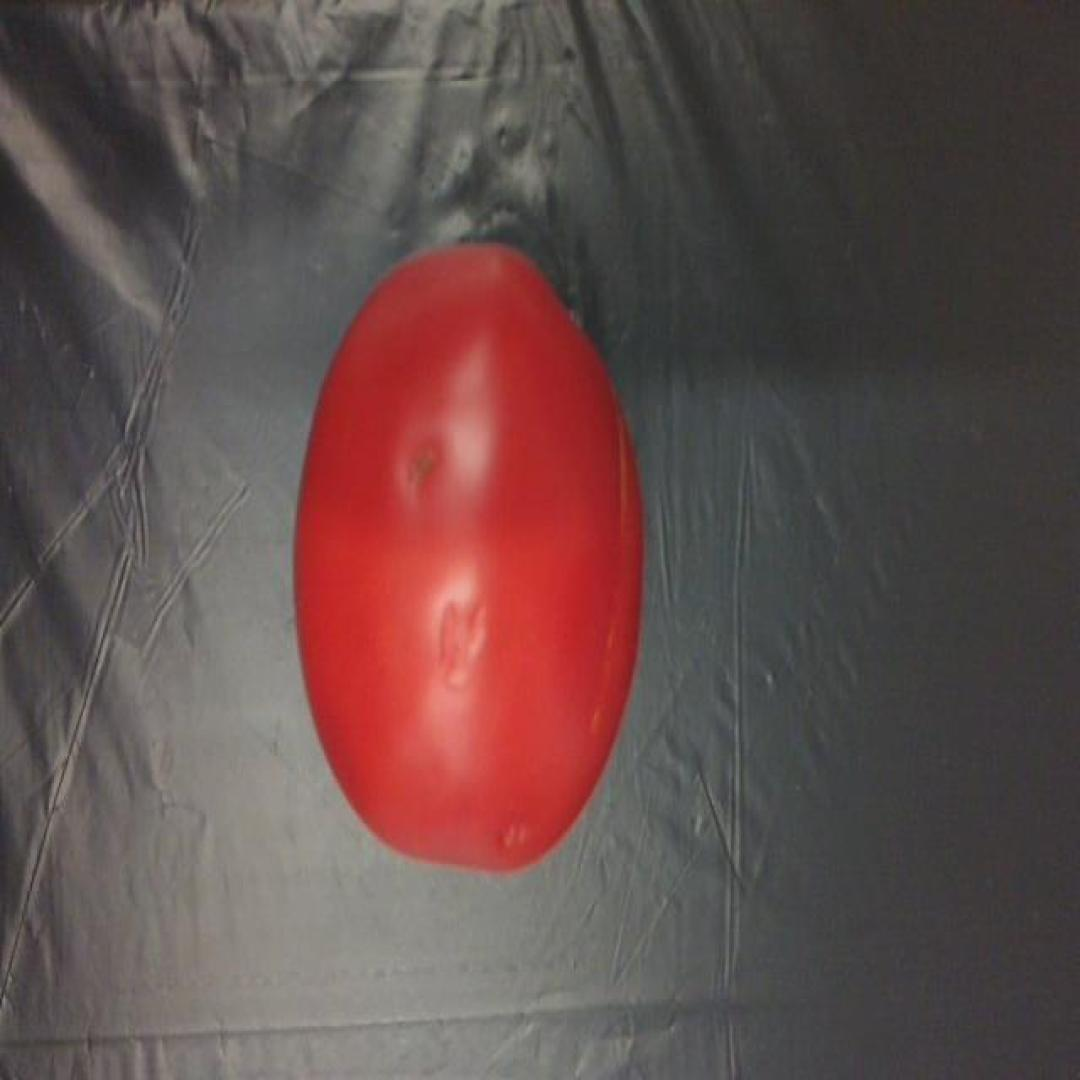matang: (289, 241, 643, 871)
